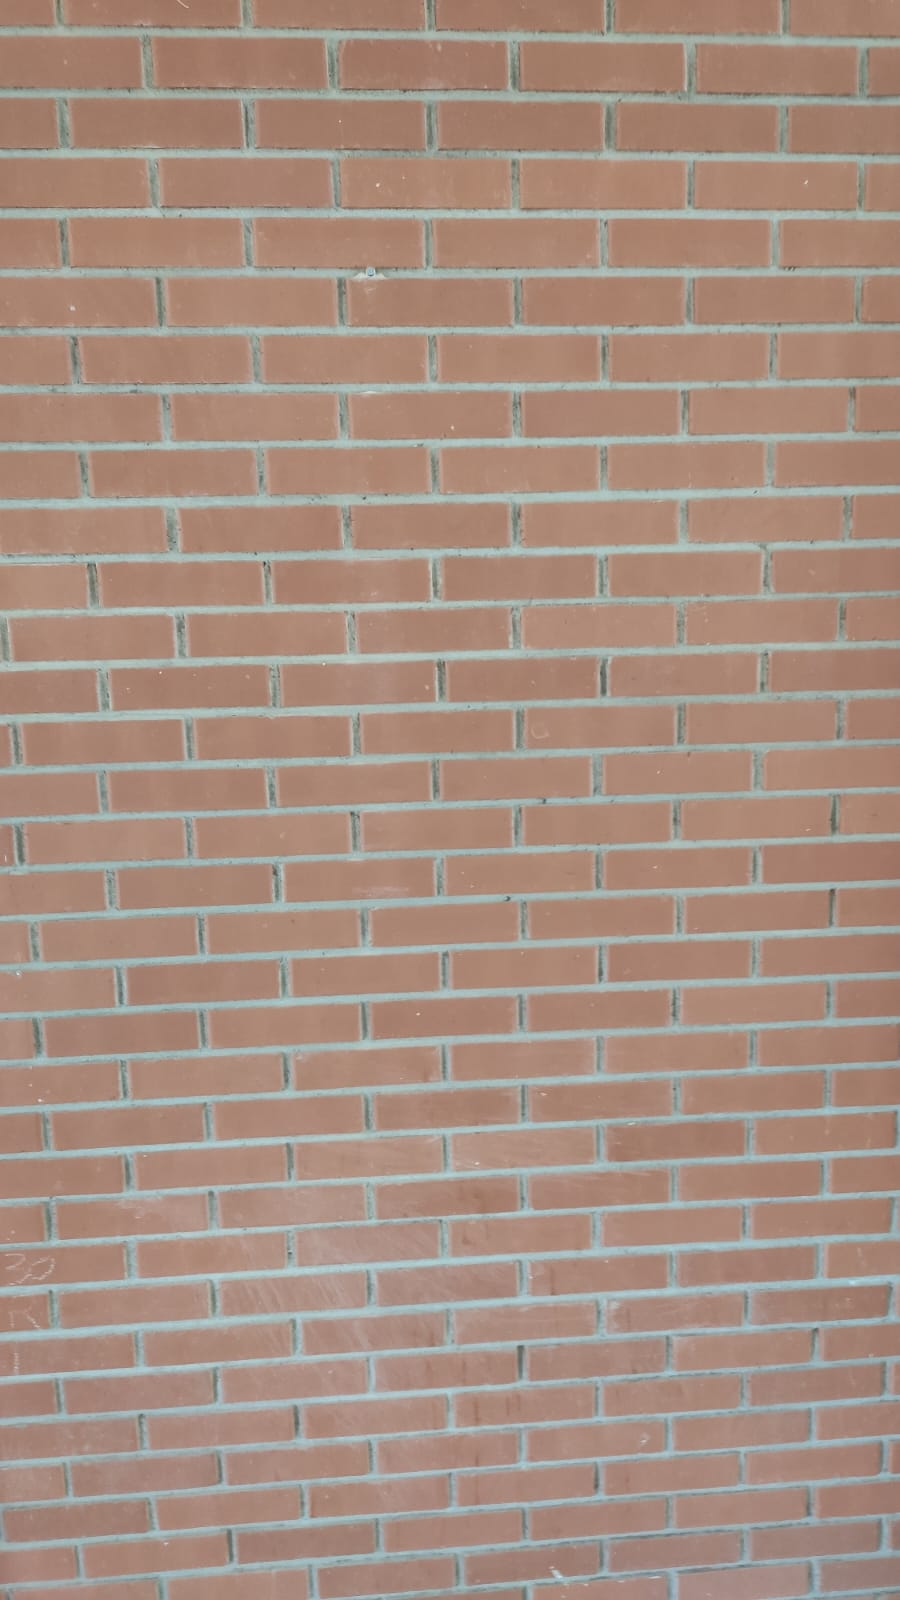redbrick: (427, 440, 605, 514), (333, 269, 508, 329), (442, 654, 610, 711), (513, 791, 679, 840)
